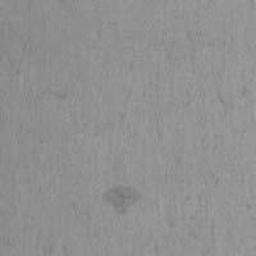Oil spot: (101, 183, 145, 225)
